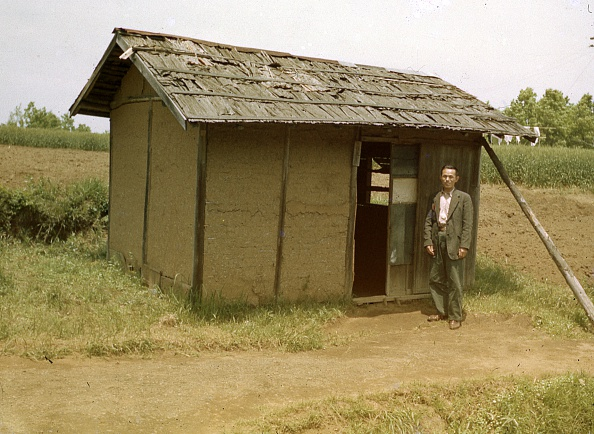em pe: (416, 151, 462, 322)
